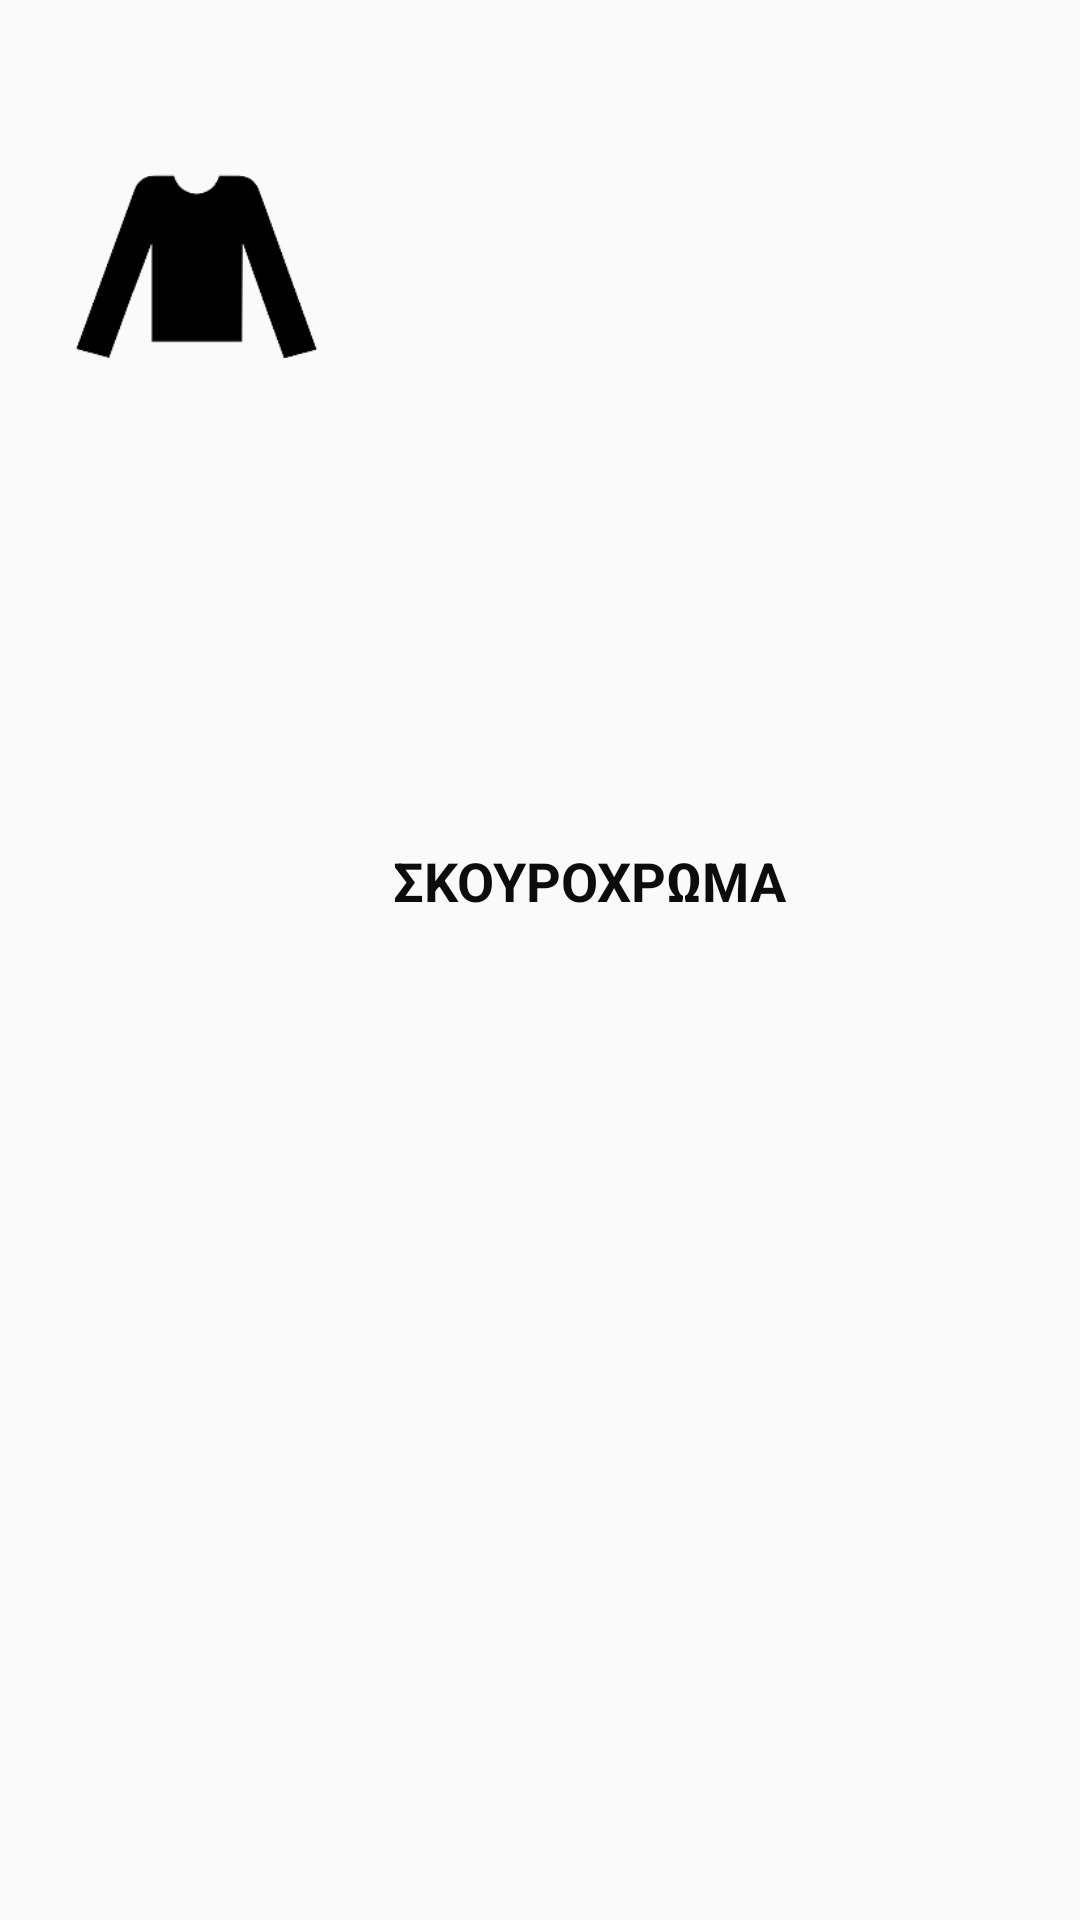

Locate icon controls on the screen. Image size 1080×1920, boxes as (x1, y1, x2, y2).
darkclothes: (76, 175, 317, 358)
